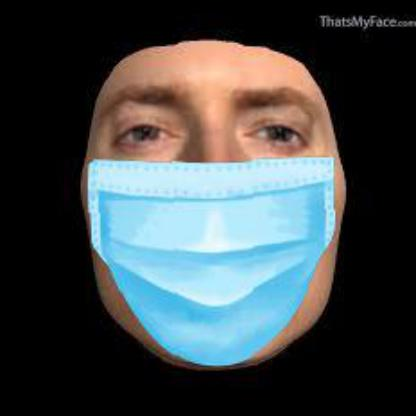Surgical Mask: (86, 77, 334, 347)
